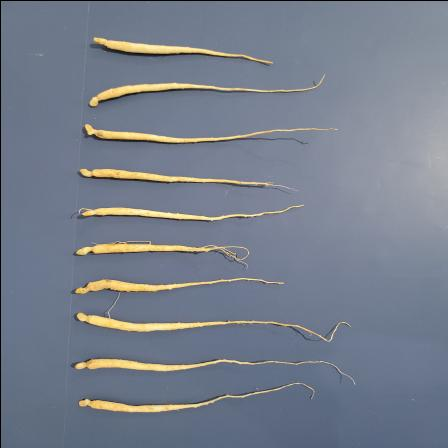Ginseng: (74, 310, 352, 344), (86, 74, 326, 109), (72, 357, 358, 385), (75, 382, 314, 412), (81, 120, 338, 144), (76, 164, 298, 190), (86, 36, 276, 65), (72, 241, 252, 266), (72, 276, 284, 296), (72, 202, 304, 220)
head: (74, 280, 93, 294), (88, 92, 106, 106), (82, 122, 100, 136), (74, 244, 95, 255), (75, 312, 96, 323), (92, 36, 110, 48), (72, 358, 90, 370), (79, 206, 98, 216), (78, 168, 96, 178)
